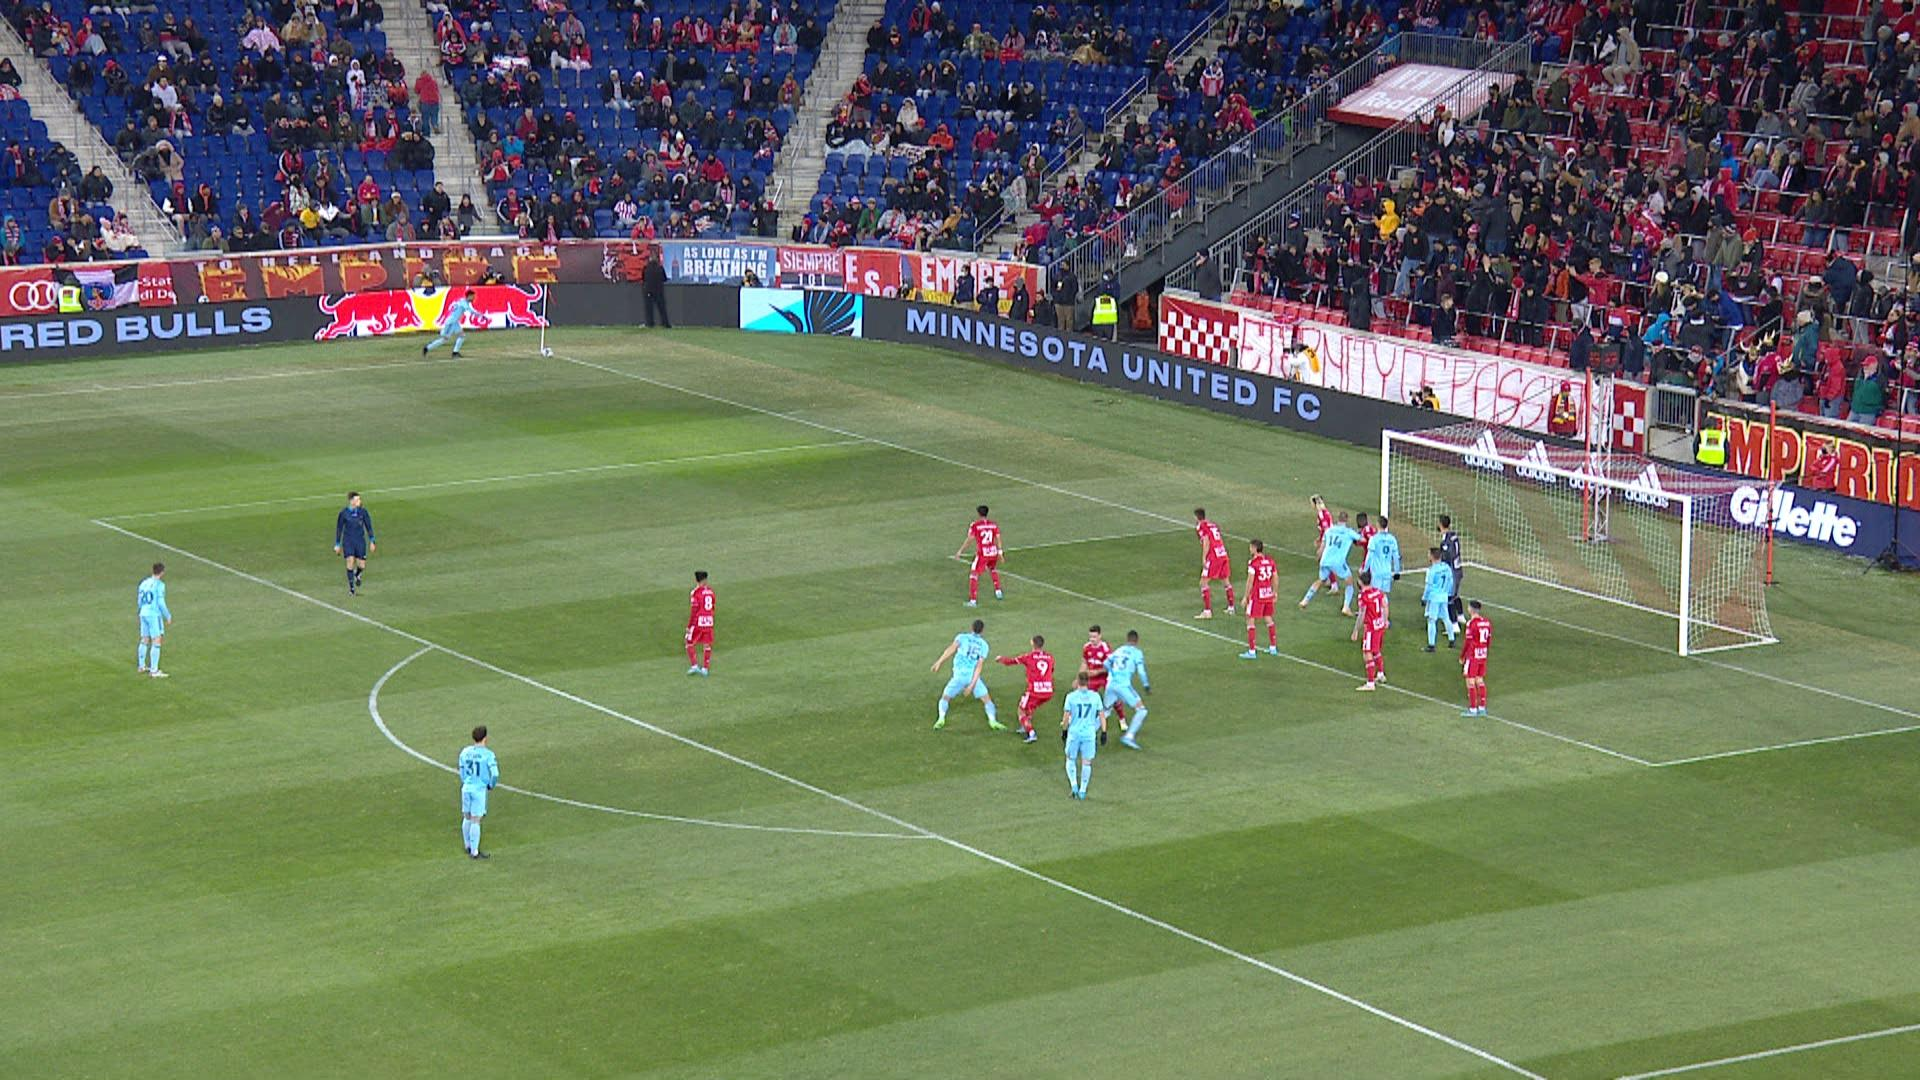football: (542, 347, 554, 358)
